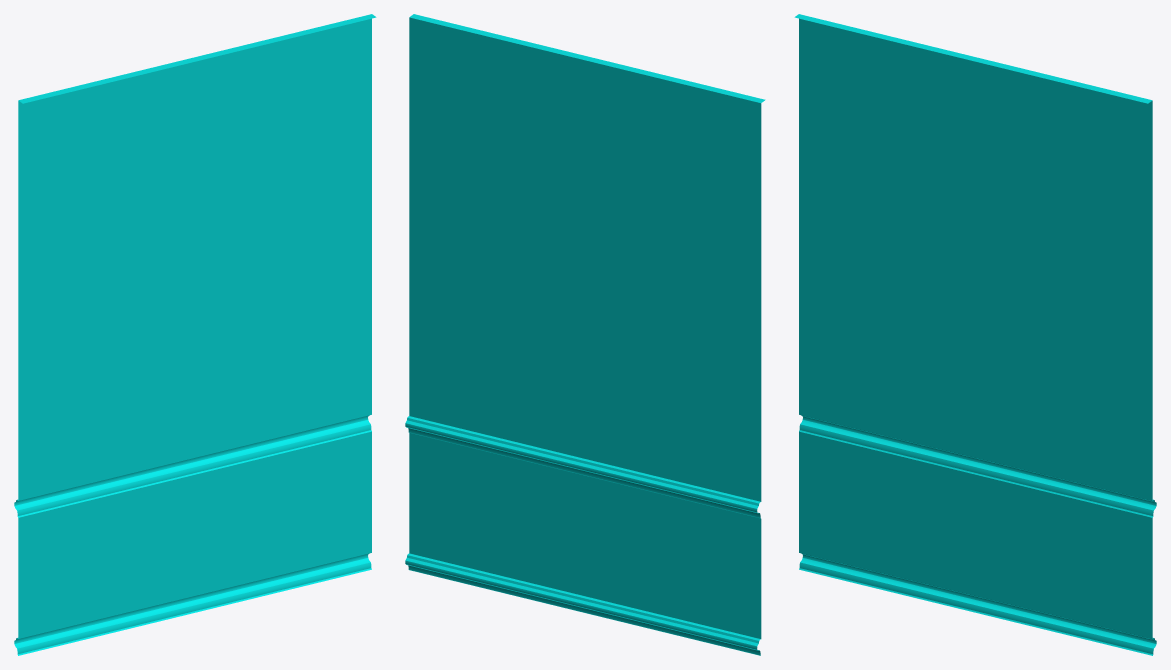
File: SetoModWall.fbx
The picture shows the model from 3 angles, left to right: view 1: azimuth 30°, elevation 25°; view 2: azimuth 150°, elevation 25°; view 3: azimuth 330°, elevation 25°; orthographic projection.
Parts seen in each view (by area): view 1: ModWall; view 2: ModWall; view 3: ModWall.
Boxes of the visible parts, x1,y1,x2,y2 form: ModWall: (14, 14, 376, 655); ModWall: (405, 14, 765, 655); ModWall: (794, 14, 1156, 655).
Bounding box in the file's own units: 240 × 360 × 10.25.
